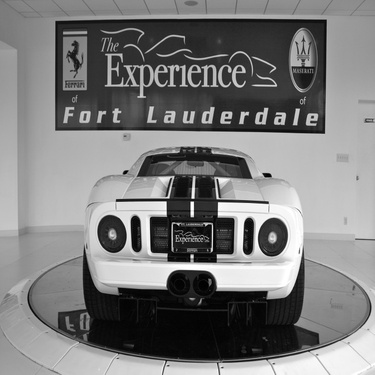car: (64, 148, 313, 331)
